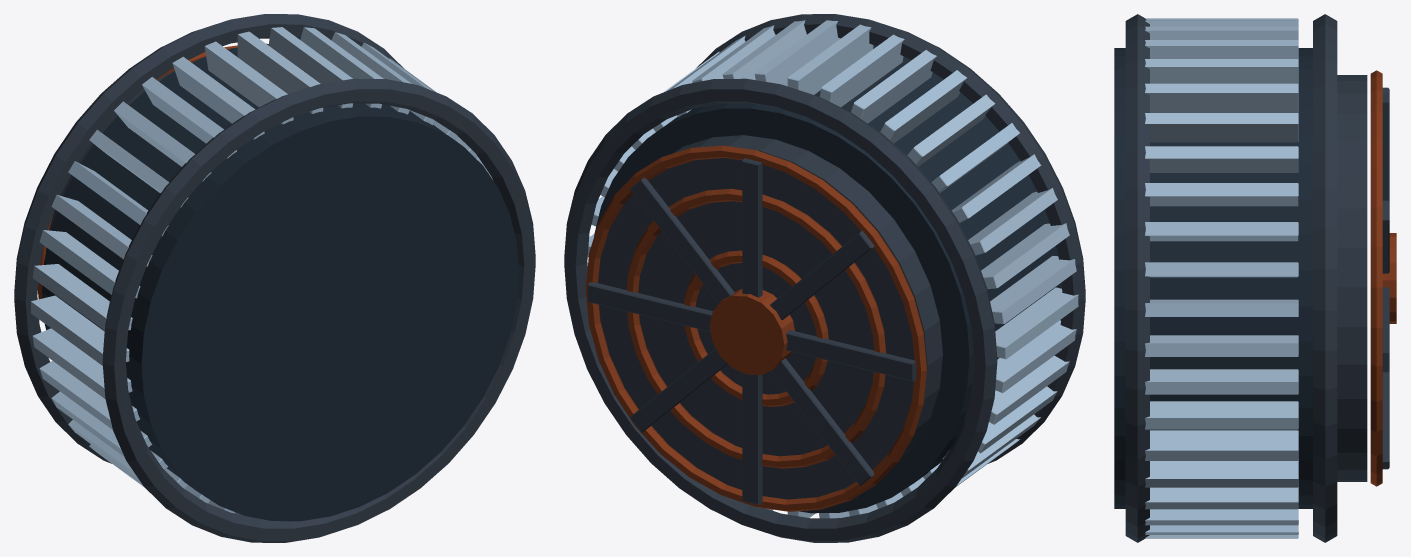
File: ScrapSonic_Cooling.obj
3 views of the same model, side by side, from view 1: azimuth 30°, elevation 25°; view 2: azimuth 150°, elevation 25°; view 3: azimuth 270°, elevation 25° (orthographic). The views are drawn at different scales.
Parts seen in each view (by area): view 1: DarkSteel, Housing, Steel; view 2: Housing, Steel, Copper, DarkSteel; view 3: Steel, Housing, DarkSteel, Copper.
Part boxes in pixels (bbox=[...]): DarkSteel: bbox=[42, 43, 518, 521]; Housing: bbox=[14, 14, 535, 542]; Steel: bbox=[31, 27, 492, 514]; Housing: bbox=[564, 14, 1085, 542]; Steel: bbox=[587, 20, 1078, 518]; Copper: bbox=[586, 145, 926, 511]; DarkSteel: bbox=[594, 45, 1061, 513]; Steel: bbox=[1145, 18, 1298, 538]; Housing: bbox=[1125, 14, 1389, 542]; DarkSteel: bbox=[1114, 48, 1312, 508]; Copper: bbox=[1370, 70, 1396, 486].
Bounding box in the file's own units: 0.452 × 0.452 × 0.241.
